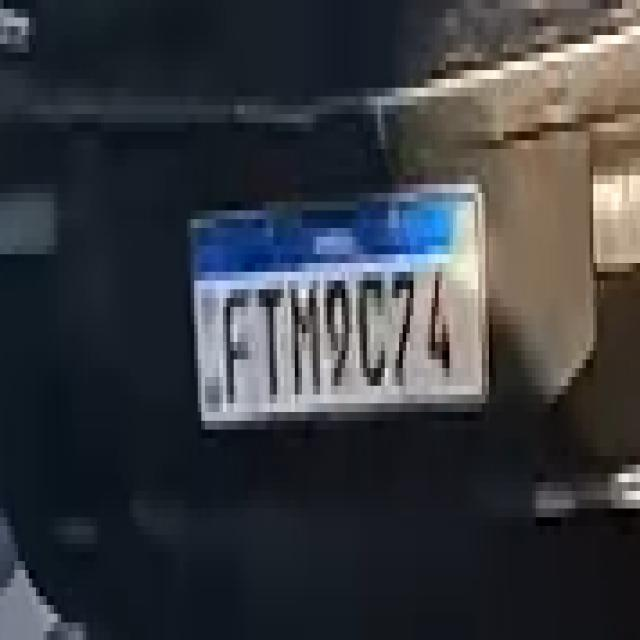Placa_mercosul_carro: (189, 175, 492, 432)
